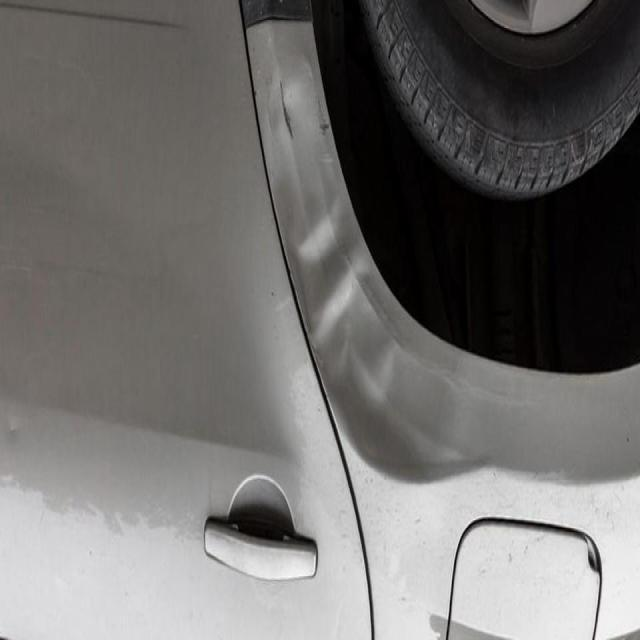dent: (262, 131, 412, 397)
